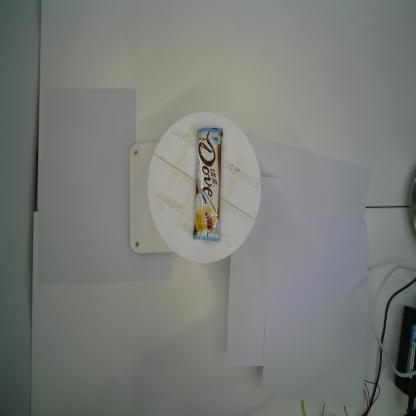Chocolate: (192, 126, 223, 242)
